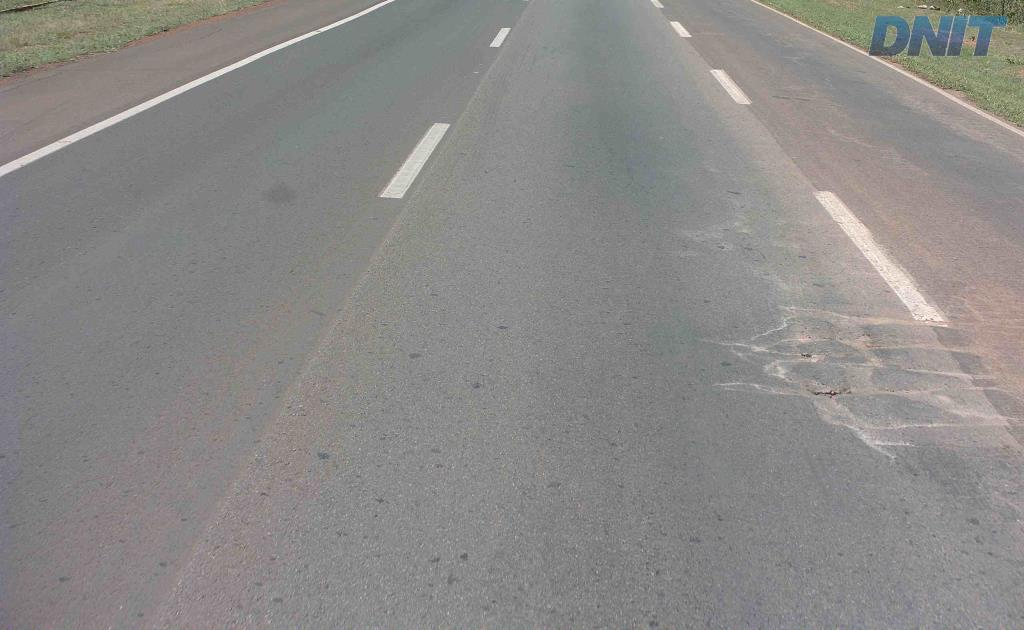pothole: (803, 382, 850, 398), (792, 345, 820, 360)
